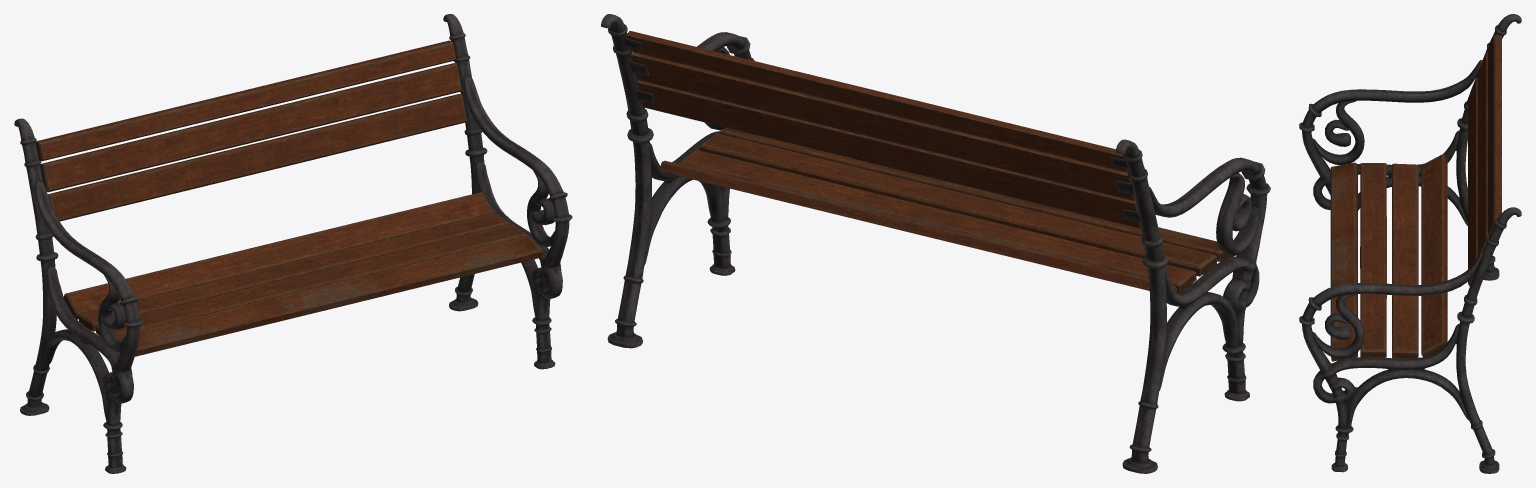
Rendered from park_bench_3c855baf.fbx.
3 views of the same model, side by side, from view 1: azimuth 30°, elevation 25°; view 2: azimuth 150°, elevation 25°; view 3: azimuth 270°, elevation 25° (orthographic). The views are drawn at different scales.
Visible parts, largest first — view 1: park_bench_3c855baf; view 2: park_bench_3c855baf; view 3: park_bench_3c855baf.
Boxes of the visible parts, x1,y1,x2,y2 form: park_bench_3c855baf: (14,14,572,473); park_bench_3c855baf: (601,14,1270,473); park_bench_3c855baf: (1299,14,1521,473).
Size of the model in its own units: 1.57 by 0.9285 by 0.7197.
1 material, 1 textured.
